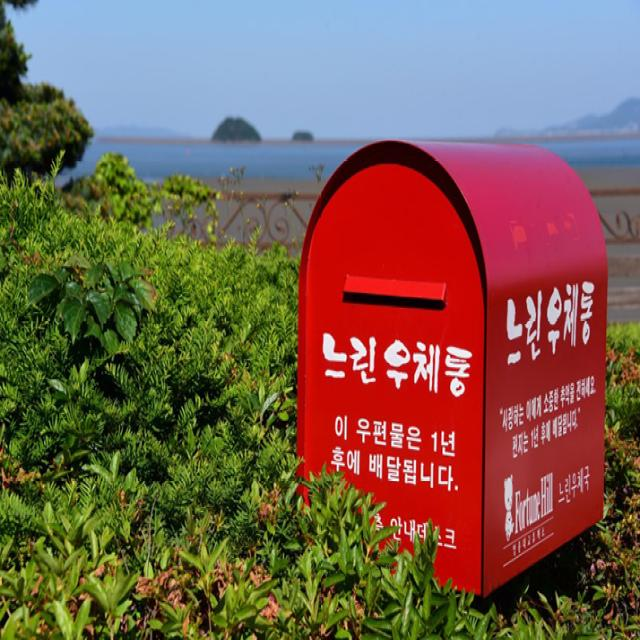Post Box: (296, 138, 607, 596)
